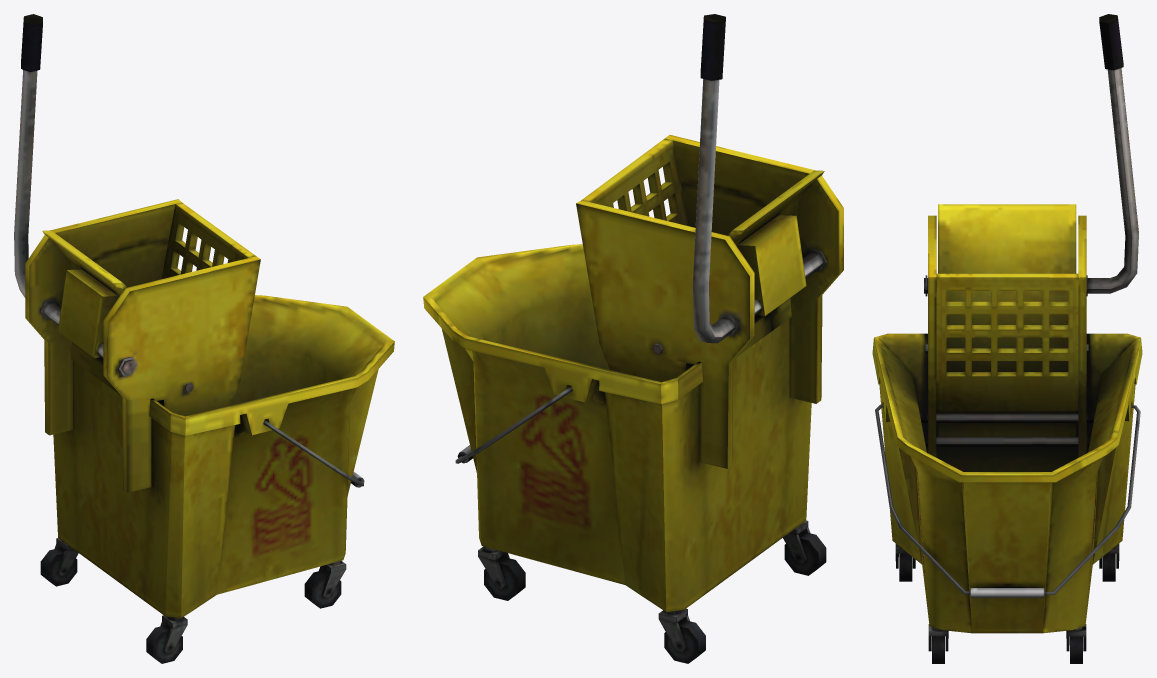
File: mop01.glb
3 renders of one model, left to right at view 1: azimuth 30°, elevation 25°; view 2: azimuth 150°, elevation 25°; view 3: azimuth 270°, elevation 25°, orthographic. The views are drawn at different scales.
Visible parts, largest first — view 1: mop01; view 2: mop01; view 3: mop01.
Part boxes in pixels (x1=…): mop01: x1=14, y1=14, x2=394, y2=663; mop01: x1=423, y1=14, x2=843, y2=663; mop01: x1=872, y1=14, x2=1142, y2=663.
Size of the model in its own units: 0.5709 by 1.02 by 0.4554.
2 materials, 2 textured.
